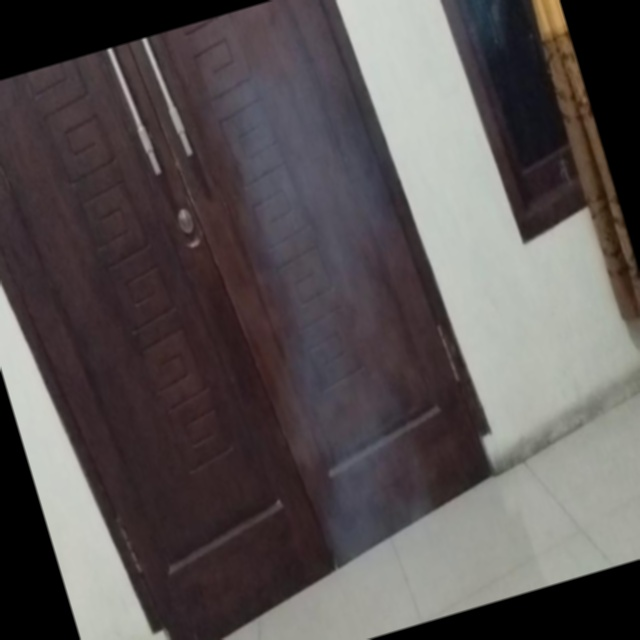smoke: (209, 36, 538, 552)
